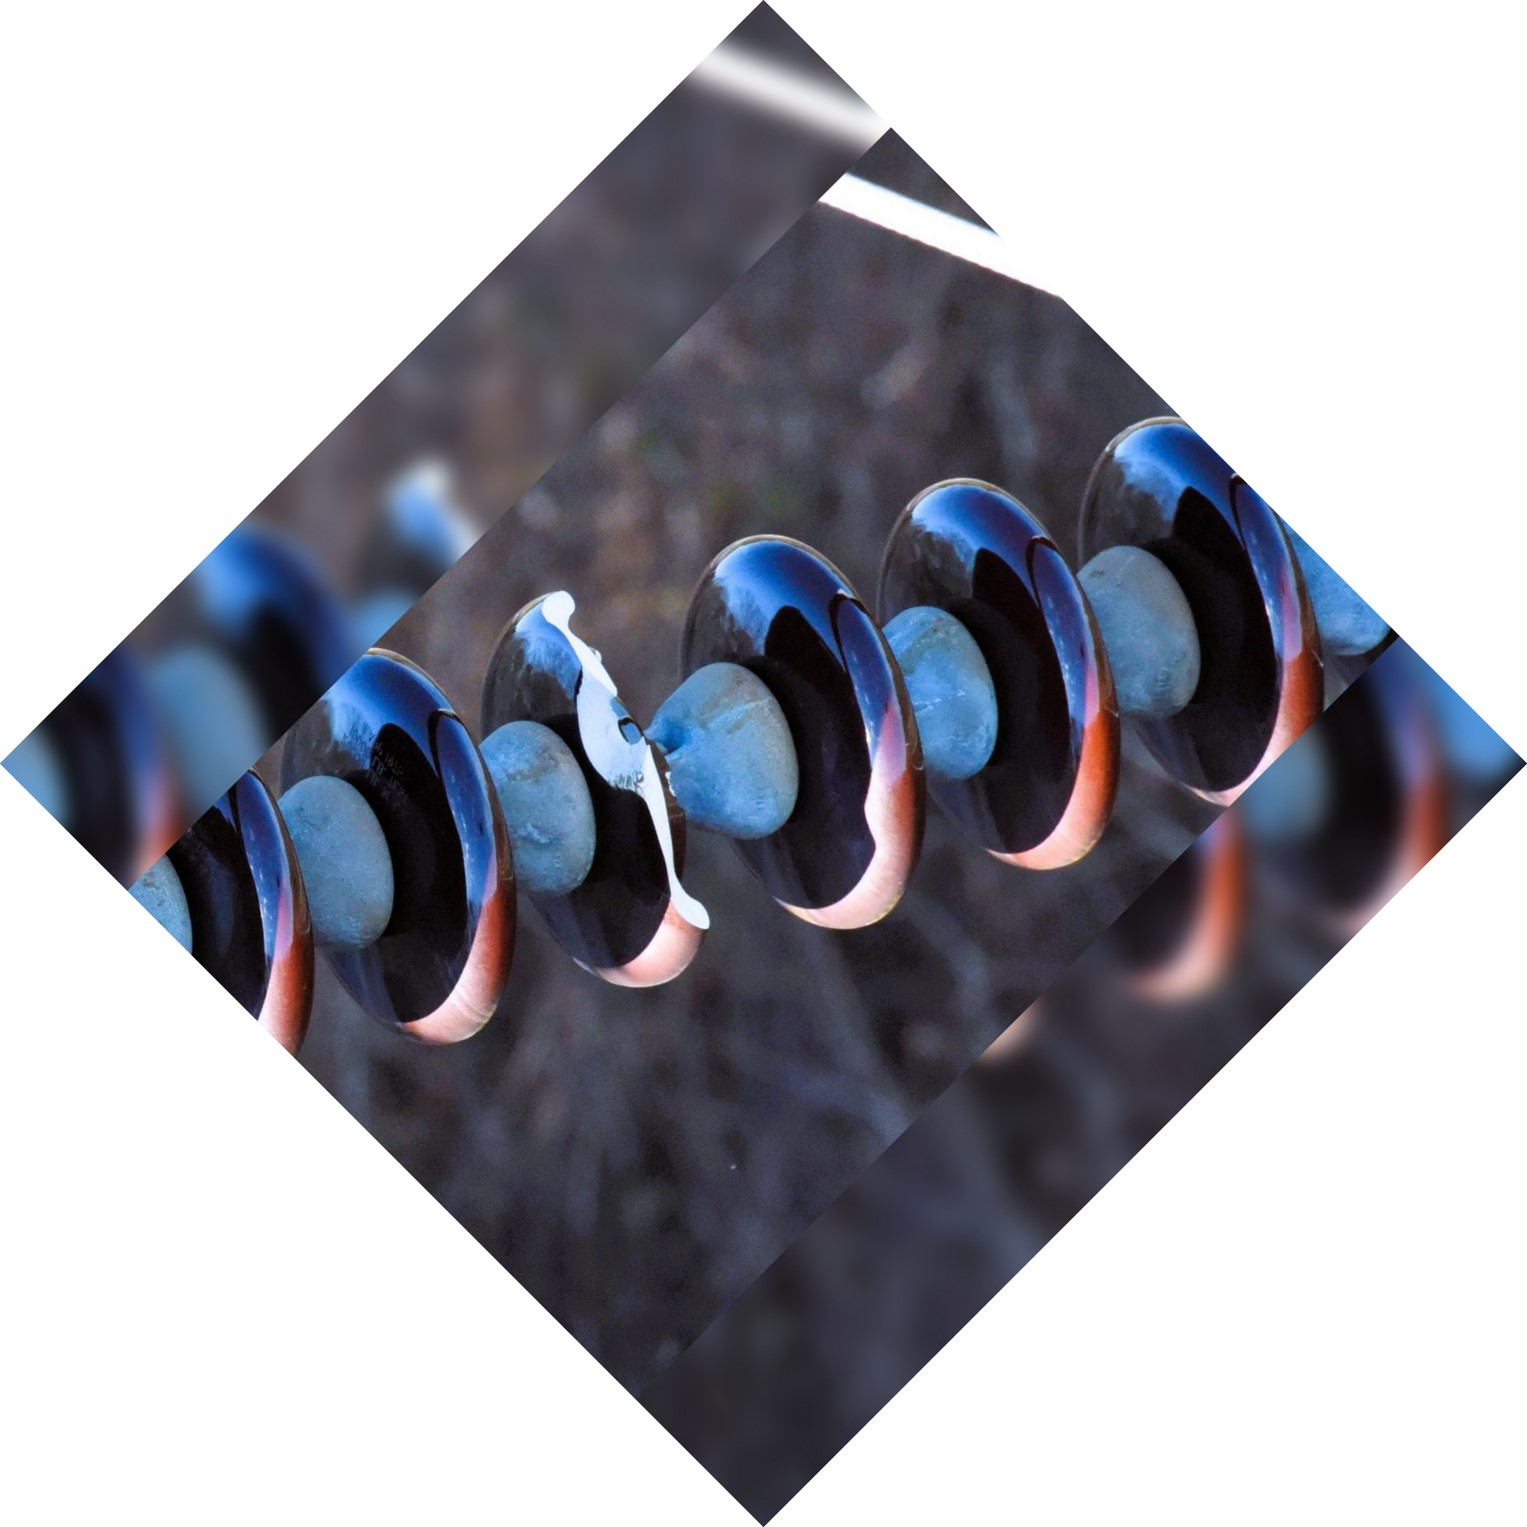insulator breakage: (489, 572, 734, 1005)
